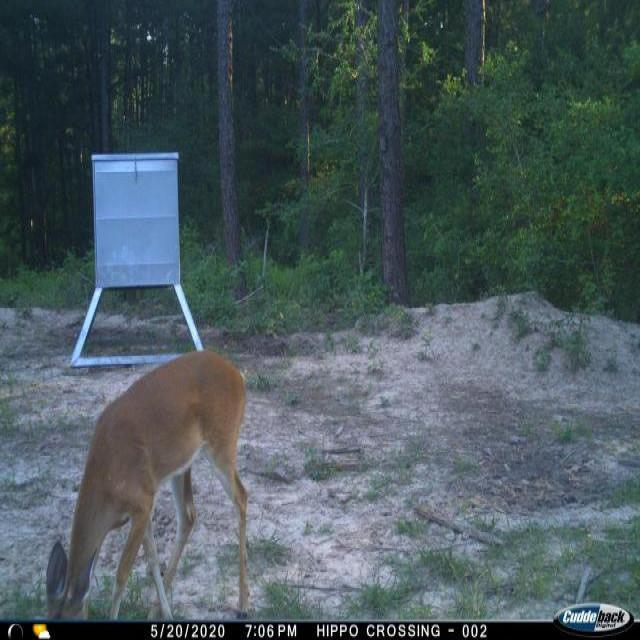deer: (38, 347, 254, 617)
